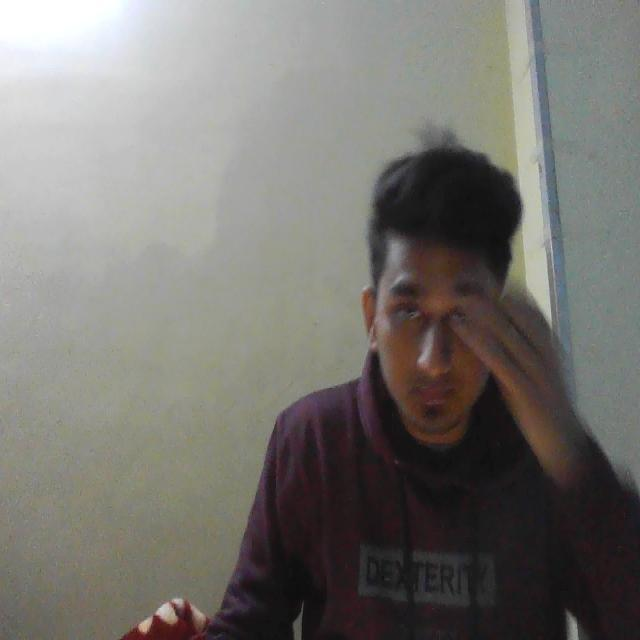real: (364, 168, 518, 460)
